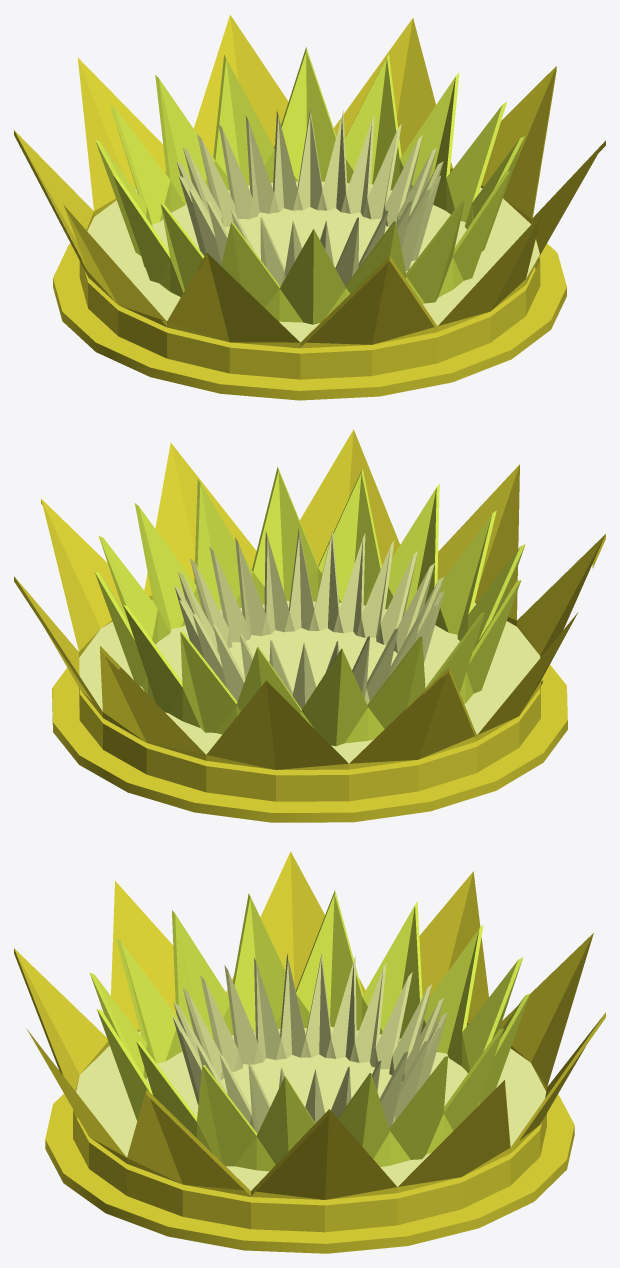
File: portal_abrir_000011.obj
The picture shows the model from 3 angles, top to bottom: view 1: azimuth 30°, elevation 25°; view 2: azimuth 150°, elevation 25°; view 3: azimuth 270°, elevation 25°; orthographic projection. The views are drawn at different scales.
Visible parts, largest first — view 1: pCylinder1, Cylinder, Cylinder.001; view 2: pCylinder1, Cylinder, Cylinder.001; view 3: pCylinder1, Cylinder, Cylinder.001.
Boxes of the visible parts, x1,y1,x2,y2 form: pCylinder1: [14, 15, 605, 400]; Cylinder: [95, 47, 524, 324]; Cylinder.001: [176, 108, 443, 286]; pCylinder1: [14, 429, 605, 822]; Cylinder: [94, 467, 525, 746]; Cylinder.001: [174, 528, 444, 709]; pCylinder1: [14, 851, 605, 1253]; Cylinder: [90, 890, 529, 1171]; Cylinder.001: [173, 953, 447, 1133].
Bounding box in the file's own units: 2.51 × 0.7347 × 2.44.
4 materials, 4 textured.
